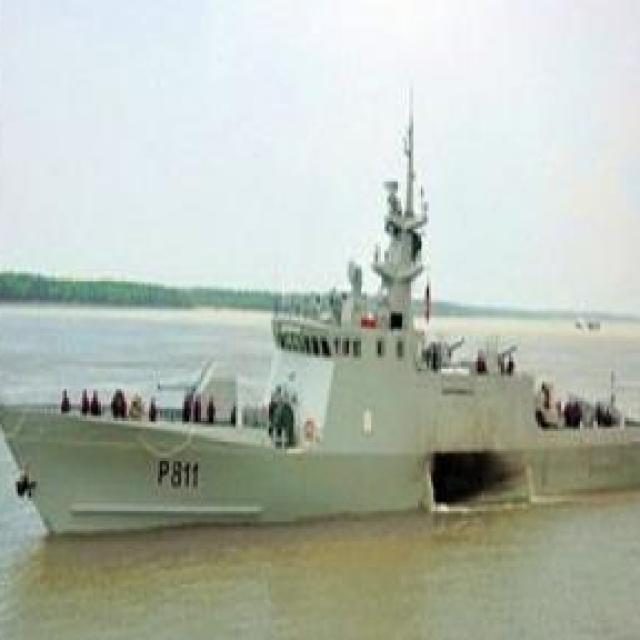navalvessels: (0, 104, 640, 540)
